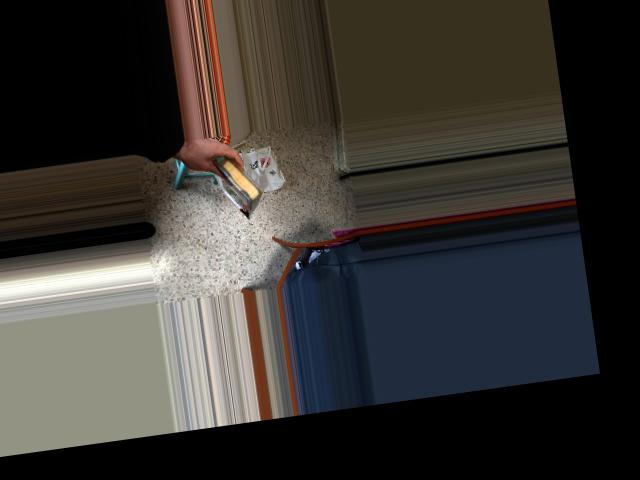cheese: (204, 134, 267, 224)
